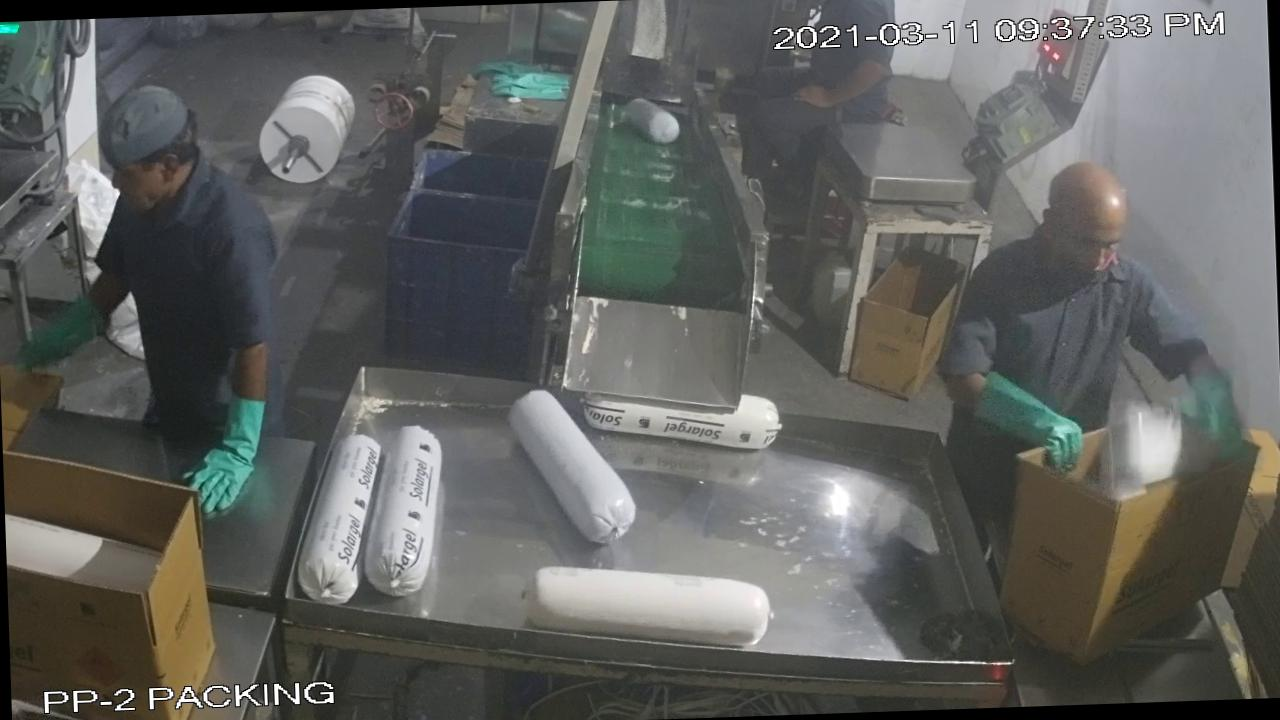Gloves: (972, 357, 1102, 481), (1176, 347, 1247, 467)
No-gloves: (786, 50, 894, 121)
